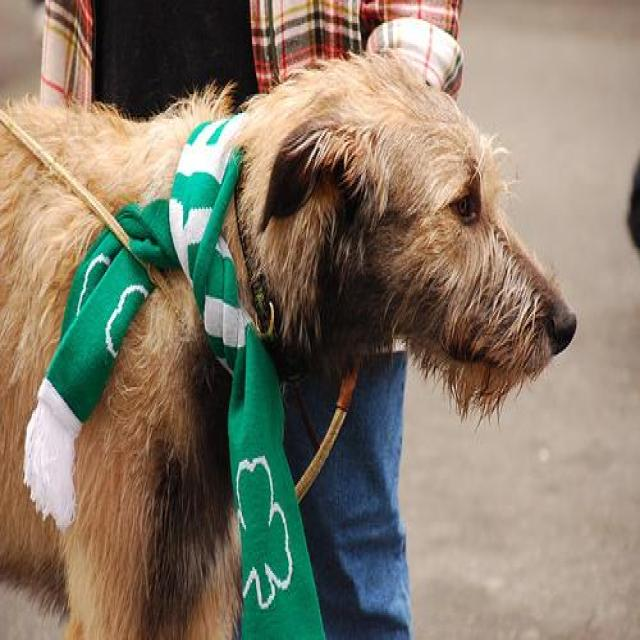irish_wolfhound: (1, 42, 578, 636)
